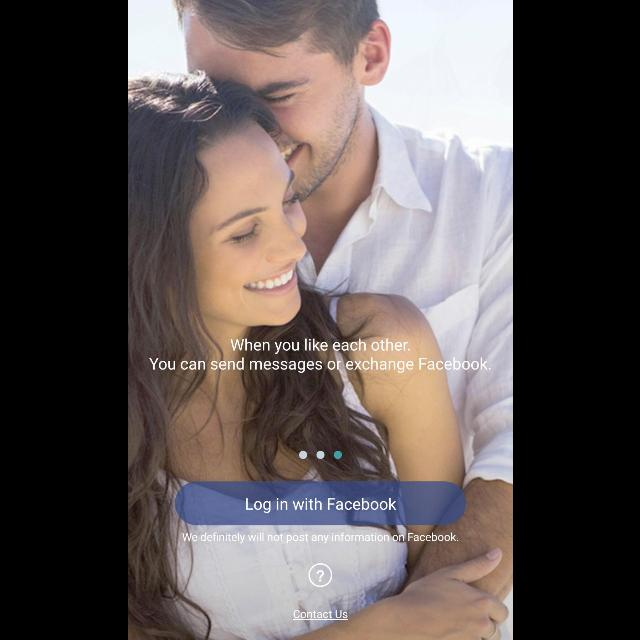backgroundimage: (128, 1, 512, 640)
icon: (307, 563, 331, 587)
pageindicator: (298, 450, 342, 460)
text: (148, 338, 490, 374), (180, 532, 458, 544), (292, 610, 348, 620)
textbutton: (174, 482, 466, 526)
